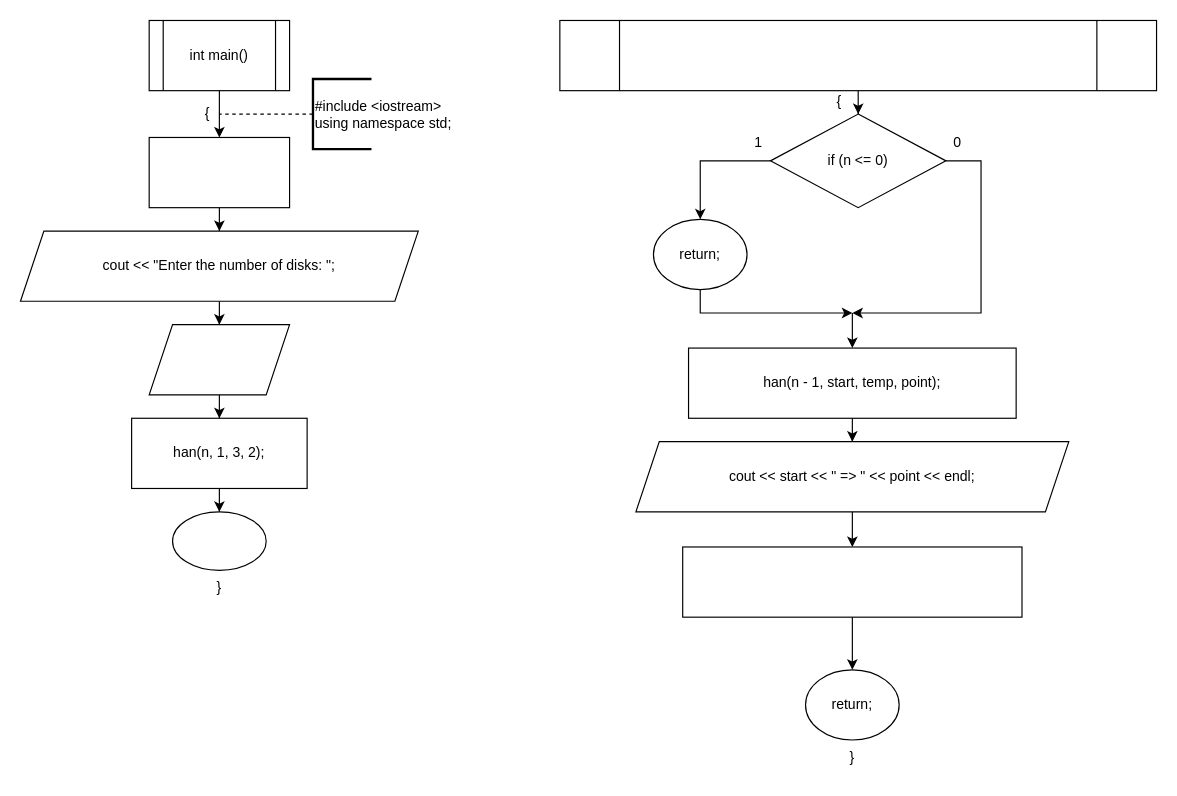
Some shapes in this 1177 by 796 pixel diagram are drawn without their labels. The centre of each missing label's shape, as x and y in pixels:
cin >> n;: point (219, 359)
han(n - 1, temp, point, start);: point (852, 581)
int n;: point (219, 172)
return 0;: point (218, 540)
void han(int n, int start, int point, int temp): point (858, 55)
